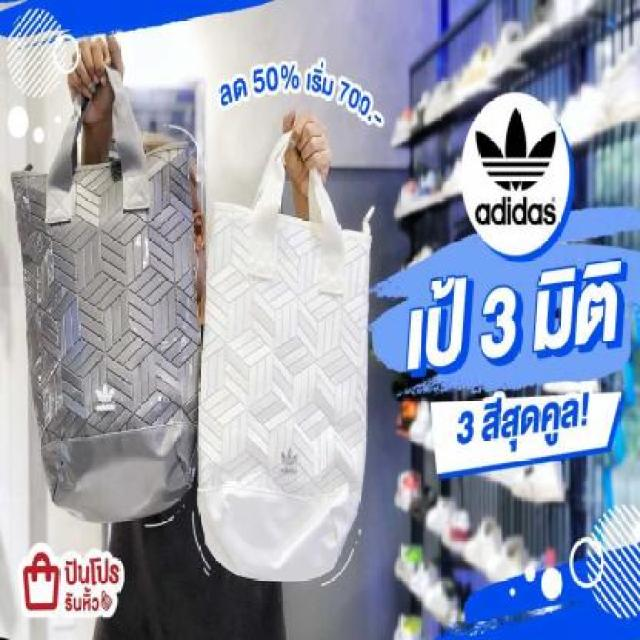Bag: (5, 48, 208, 538), (180, 95, 369, 598)
